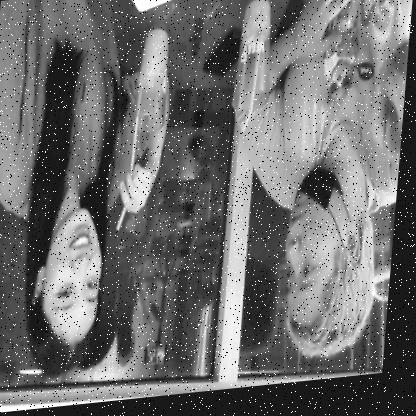streamer: (216, 0, 416, 375), (0, 0, 179, 388)
